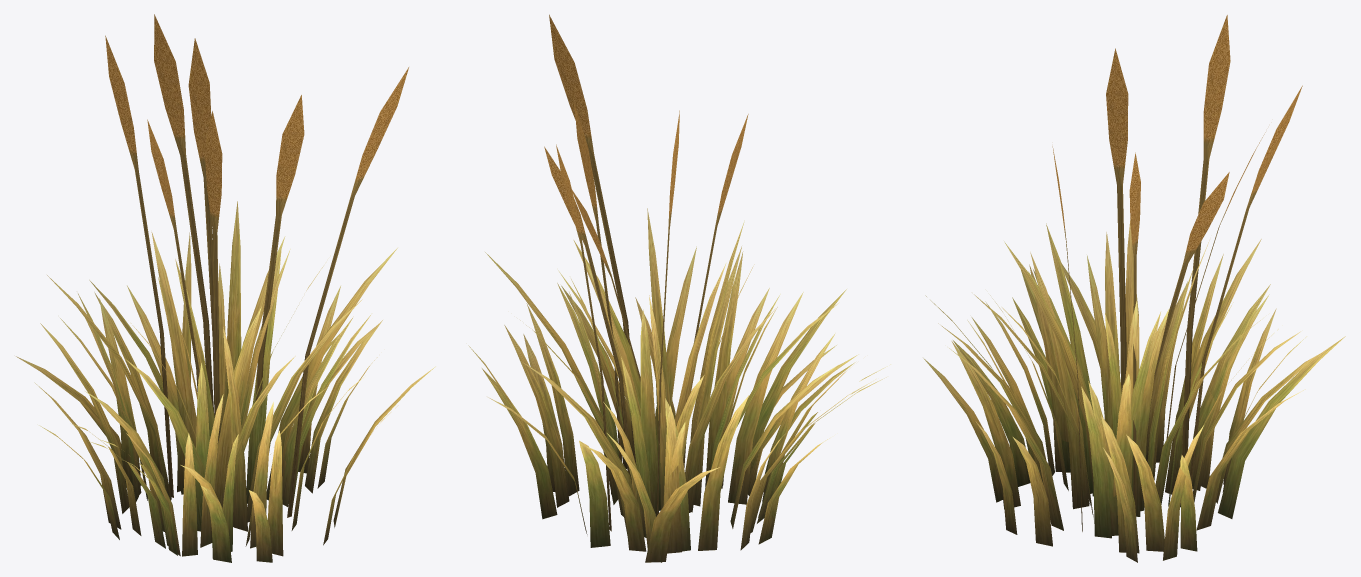
Rendered from a02_dry_grass_tuft_high.glb.
3 views of the same model, side by side, from view 1: azimuth 30°, elevation 25°; view 2: azimuth 150°, elevation 25°; view 3: azimuth 270°, elevation 25° (orthographic).
Parts seen in each view (by area): view 1: A02_high_Tuft; view 2: A02_high_Tuft; view 3: A02_high_Tuft.
Boxes of the visible parts, x1,y1,x2,y2 form: A02_high_Tuft: (16,14,435,562); A02_high_Tuft: (468,14,890,562); A02_high_Tuft: (923,15,1345,562).
Bounding box in the file's own units: 0.9931 × 1.19 × 0.9895.
Materials: 1 (1 with a texture image).
